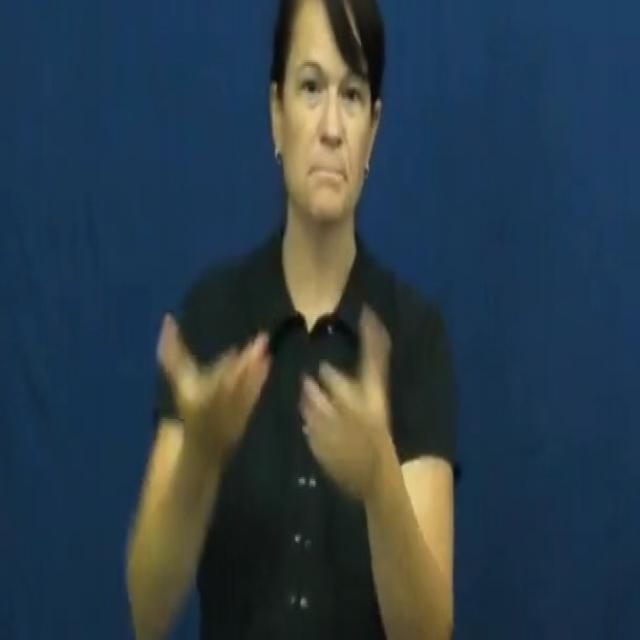lid: (148, 294, 402, 508)
